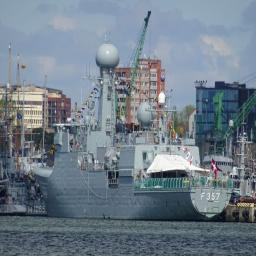Fragata: (29, 41, 238, 221)
